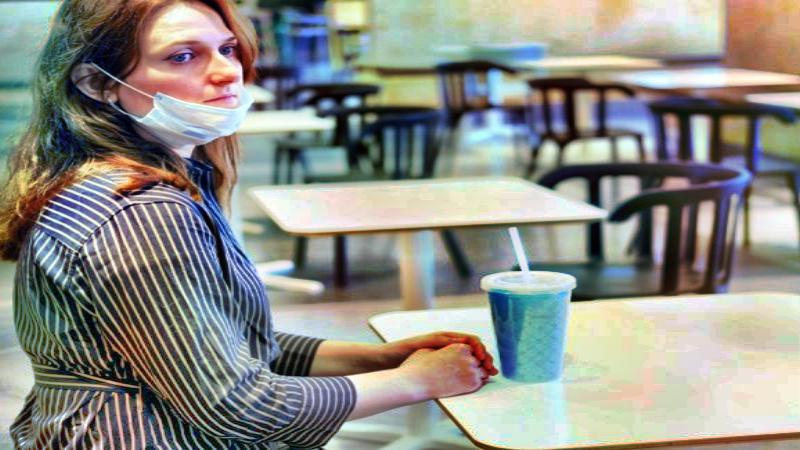mask_weared_incorrect: (39, 1, 251, 148)
